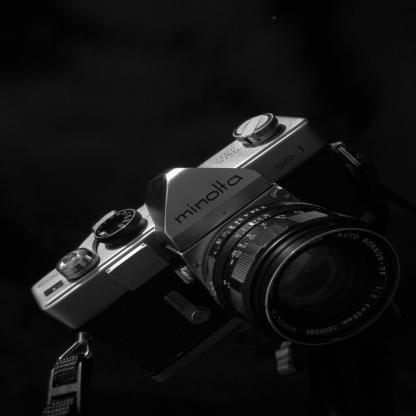Camera: (28, 116, 406, 416)
